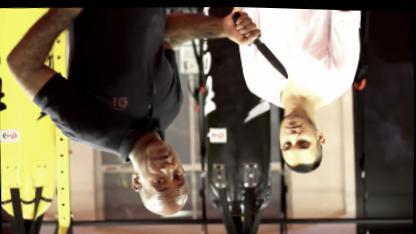knife: (227, 6, 290, 80)
